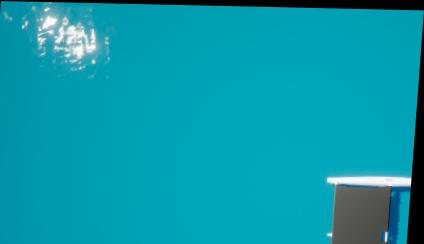boat: (315, 170, 414, 244)
drone: (334, 183, 393, 244)
land_base: (0, 1, 132, 86)
